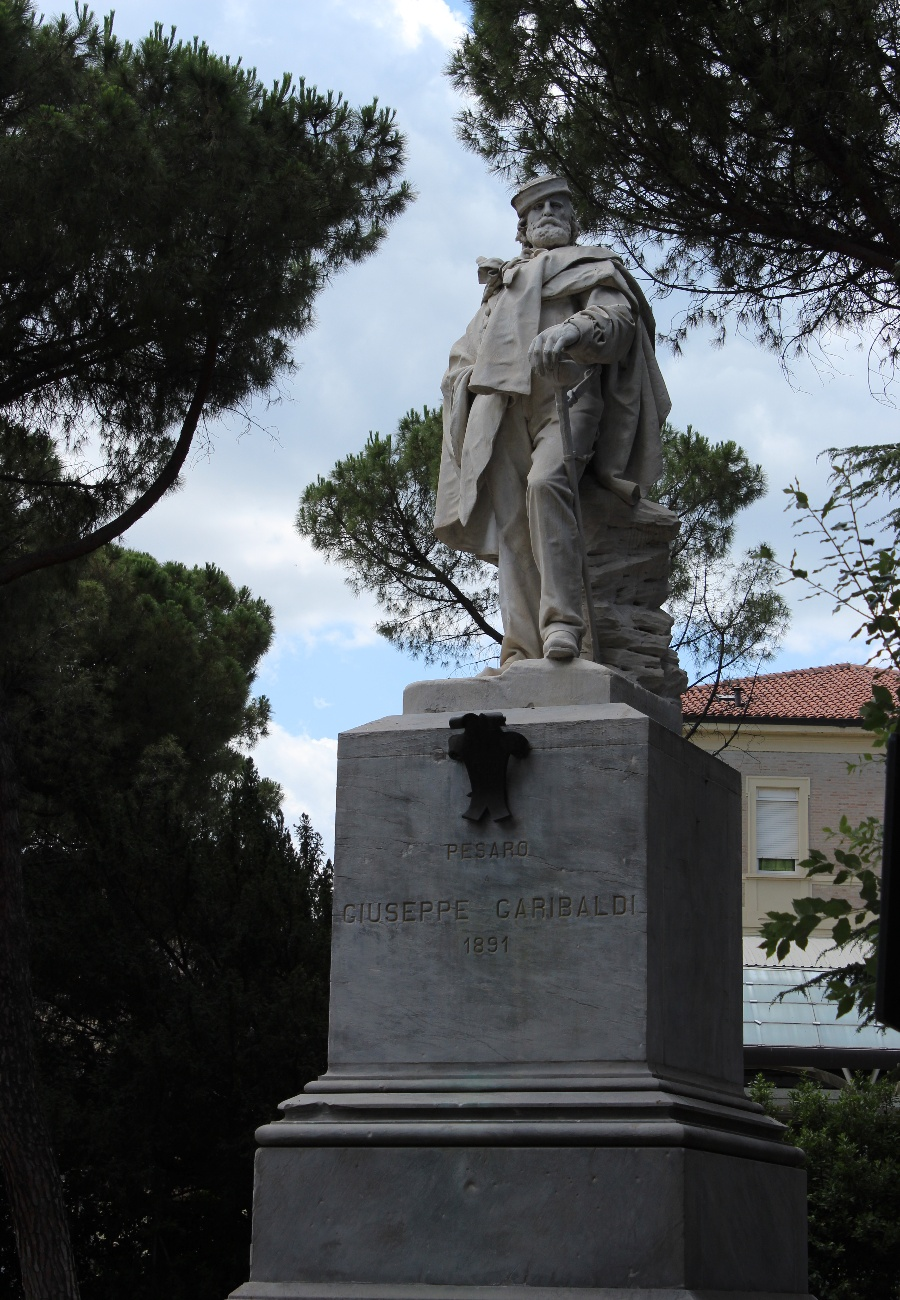Giuseppe Garibaldi: (429, 175, 673, 664)
